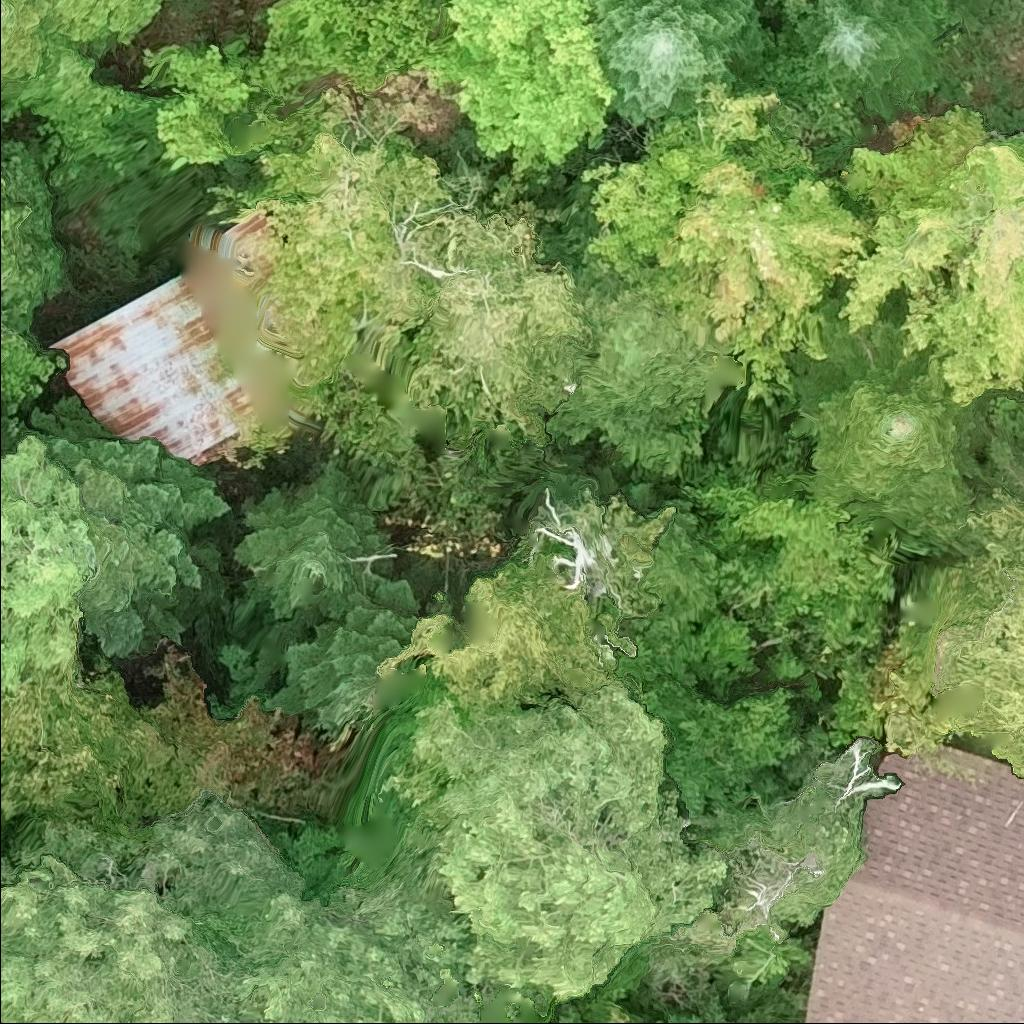crown: (578, 86, 874, 400), (847, 106, 1023, 397), (792, 303, 982, 540), (436, 0, 616, 164), (593, 0, 770, 128), (796, 0, 941, 114), (302, 0, 453, 90), (755, 52, 857, 141)
